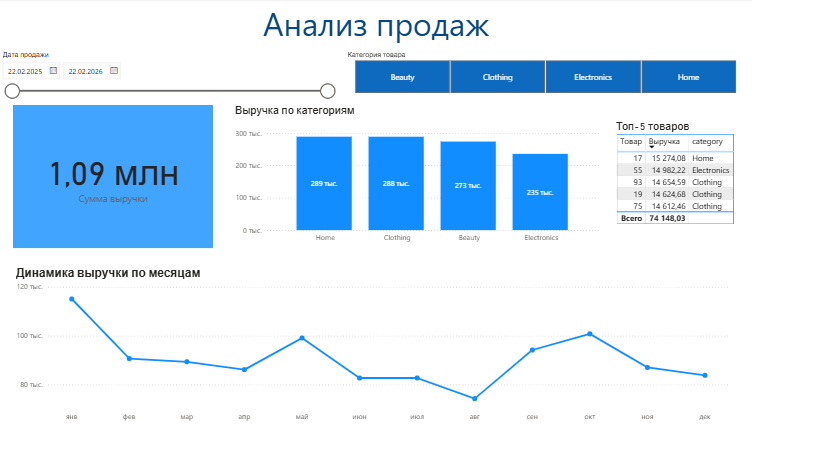

Layout of this report page (visuals, bound fields, positions):
{"tool":"powerbi","page":{"name":"Анализ продаж","canvas":[1280,720],"ordinal":0},"visuals":[{"type":"lineChart","title":"Динамика выручки по месяцам","fields":{"Category":["Calendar.Month Name"],"Y":["public orders.sum_revenue"]},"box":[30.2,450.2,1206.1,270.4],"z":0},{"type":"textbox","box":[0,0,1280,82.3],"z":1000},{"type":"card","fields":{"Values":["public orders.sum_revenue"]},"box":[30.2,178.1,336,241.9],"z":2000},{"type":"slicer","fields":{"Values":["public orders.order_date"]},"box":[0,82.3,579.5,95.7],"z":3000},{"type":"clusteredColumnChart","title":"Выручка по категориям","fields":{"Category":["public products.category"],"Y":["public orders.sum_revenue"]},"box":[398.1,178.1,621.5,241.9],"z":4000},{"type":"slicer","fields":{"Values":["public products.category"]},"box":[579.5,82.3,688.7,84],"z":5000},{"type":"tableEx","title":"Топ-5 товаров","fields":{"Values":["public products.product_id","public orders.sum_revenue","public products.category"]},"box":[1038.1,204.9,241.9,215],"z":6000}]}

Visuals, with their boxes in screenshot pixels (x1, y1, x2, y2), scaled from the page's 1280x720 canvas onto the 819x460 screenshot:
"Динамика выручки по месяцам" lineChart: bbox=(19, 288, 791, 459)
textbox: bbox=(0, 0, 818, 53)
card - public orders.sum_revenue: bbox=(19, 114, 234, 268)
slicer - public orders.order_date: bbox=(0, 53, 371, 114)
"Выручка по категориям" clusteredColumnChart: bbox=(255, 114, 652, 268)
slicer - public products.category: bbox=(371, 53, 811, 106)
"Топ-5 товаров" tableEx: bbox=(664, 131, 818, 268)
